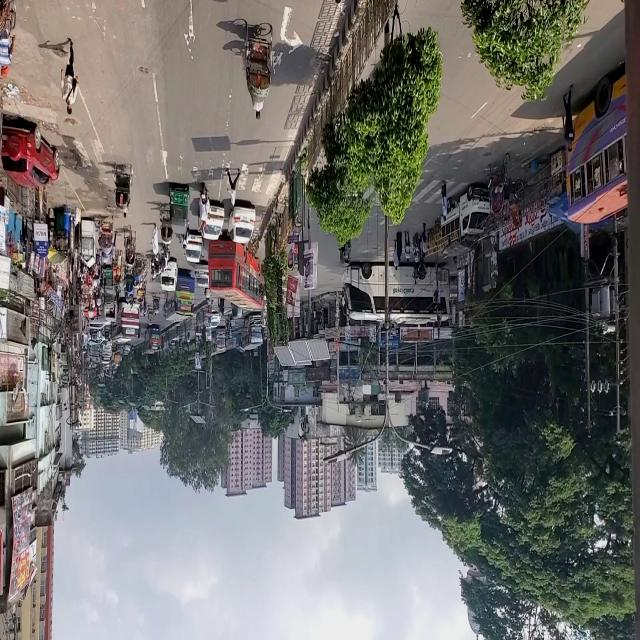white: (228, 205, 258, 243), (198, 205, 224, 243), (160, 259, 177, 290), (185, 233, 202, 263)
